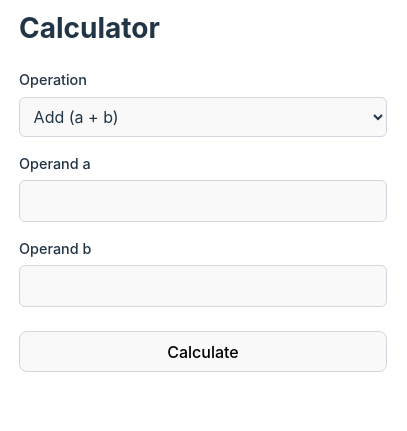
Test case: Calculator › submitting › sends the operands as numbers and renders the result
Select "Add (a + b)" in the dropdown labelled "Operation" at (203, 117), box [19,97,387,137]
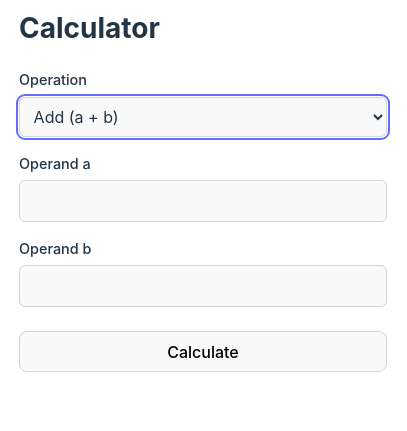
Type "2" into the field labelled "Operand a" at (203, 201), box [19,180,387,222]
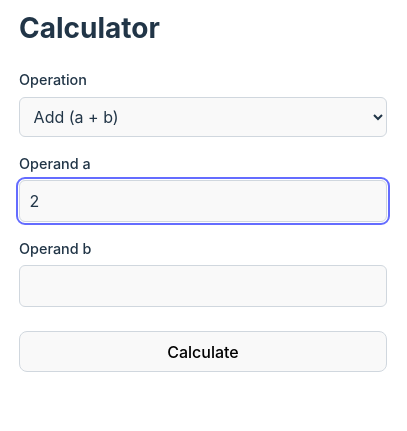
Type "3" into the field labelled "Operand b" at (203, 286), box [19,265,387,307]
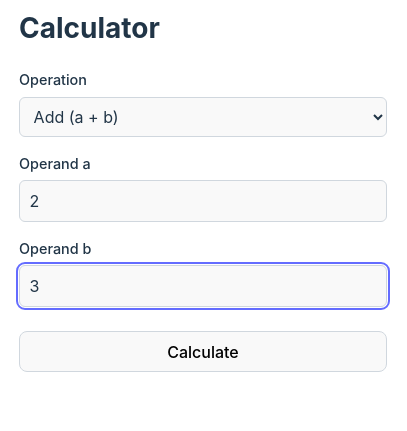
Click the button at (203, 352), box [19,331,387,372]
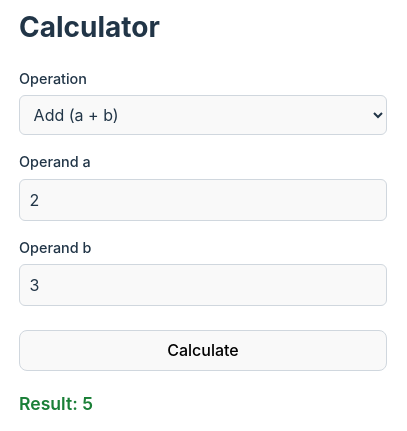
expect the text "Result: 5" is shown: met, box [19,393,93,414]
